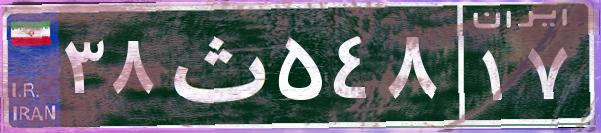1: (475, 38, 525, 113)
3: (57, 26, 110, 107)
4: (330, 28, 385, 110)
5: (273, 28, 330, 110)
7: (525, 38, 570, 115)
8: (385, 28, 445, 110), (110, 28, 158, 105)
ث: (158, 15, 273, 115)
